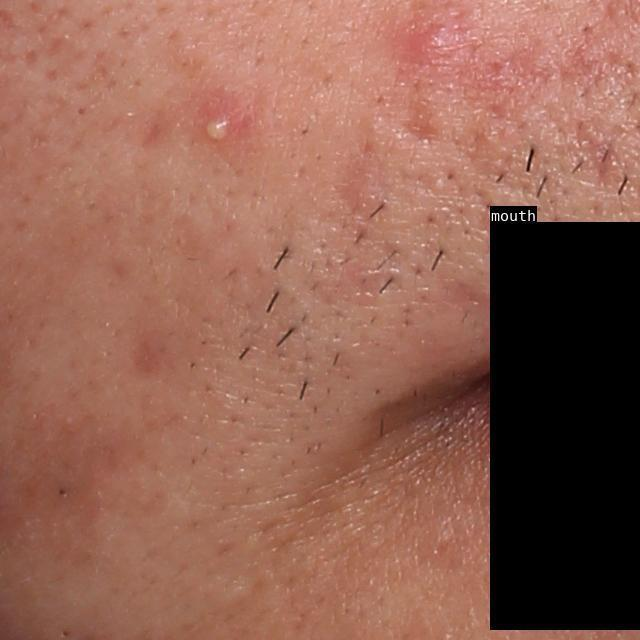atrophic_scar: (568, 110, 618, 185), (387, 97, 441, 147)
hypertrophic_scar: (212, 577, 252, 612)
papule: (406, 19, 464, 79)
pustule: (204, 112, 230, 144)
